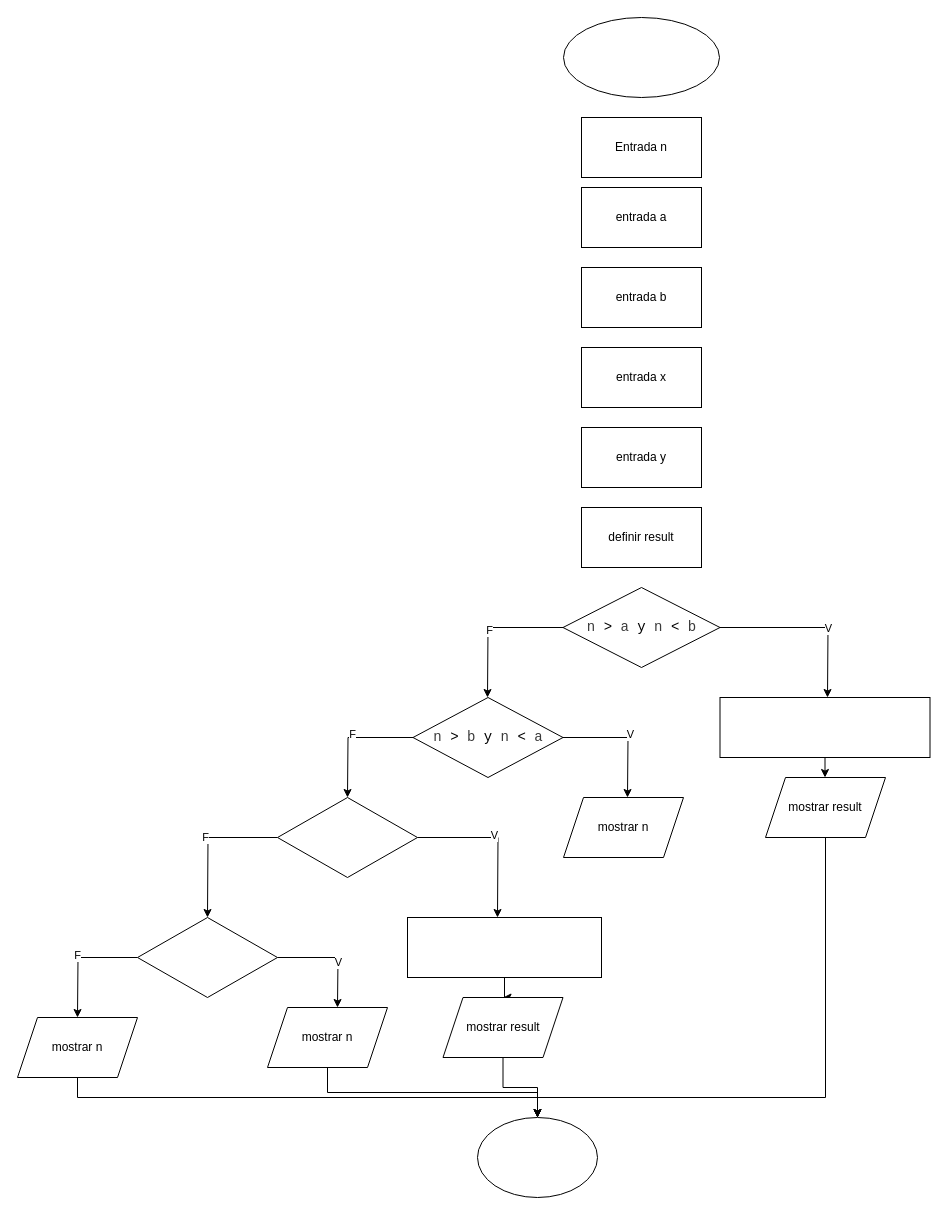
The diagram is 948 pixels wide and 1215 high, and some of its shapes have lost their labels. The shapes that lost their labels are listed below. From the top down, each one's centre as x and y in pixels, then its label:
At pixel 641 57: "Algoritmo Practico 1 ejer 4".
At pixel 824 727: "result = n - n * (x / 100 )".
At pixel 347 837: "n > a y n > b".
At pixel 207 957: "x = 0 o y = 0".
At pixel 504 947: "result = n - n * (y / 100 )".
At pixel 537 1157: "Fin Algortimo".
